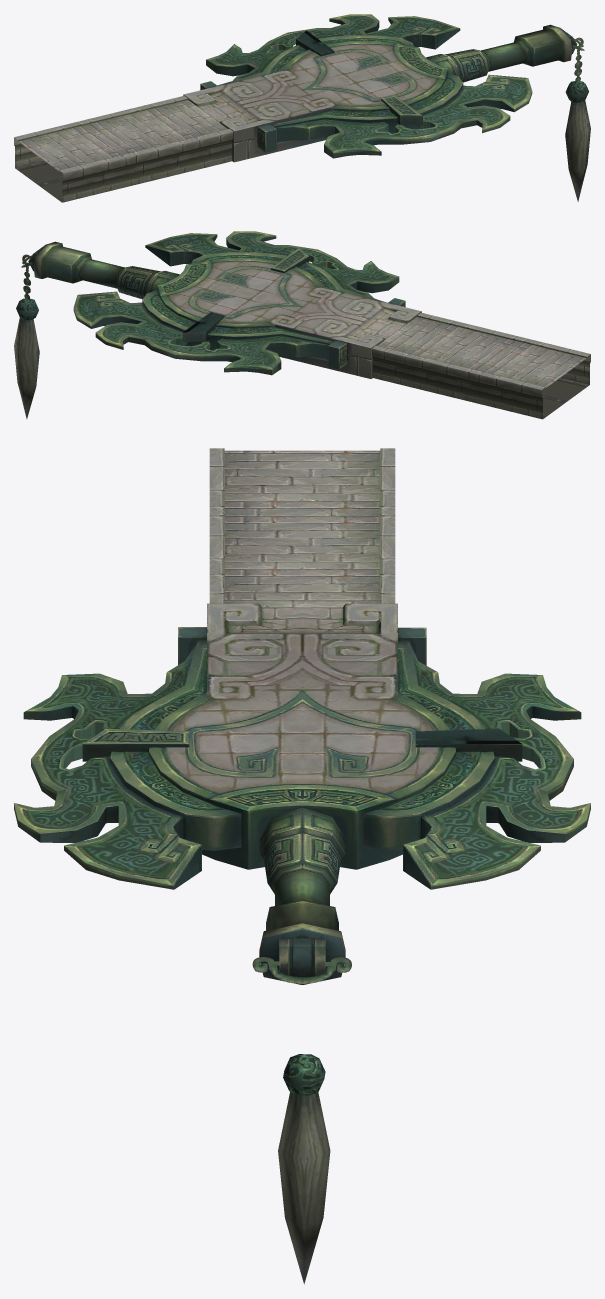
Rendered from cj_xinshou_jian01_53_41_0629out.fbx.
The picture shows the model from 3 angles, top to bottom: view 1: azimuth 30°, elevation 25°; view 2: azimuth 150°, elevation 25°; view 3: azimuth 270°, elevation 25°; orthographic projection. The views are drawn at different scales.
Visible parts, largest first — view 1: cj_xinshou_jian01; view 2: cj_xinshou_jian01; view 3: cj_xinshou_jian01.
Boxes of the visible parts, x1,y1,x2,y2 form: cj_xinshou_jian01: [14, 14, 590, 202]; cj_xinshou_jian01: [14, 231, 590, 419]; cj_xinshou_jian01: [14, 448, 590, 1284].
Bounding box in the file's own units: 20.35 × 6.4 × 9.74.
